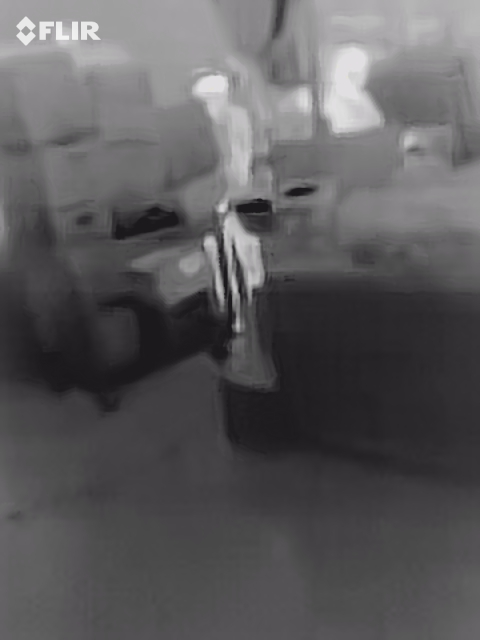head: (332, 41, 370, 96), (191, 66, 234, 104)
